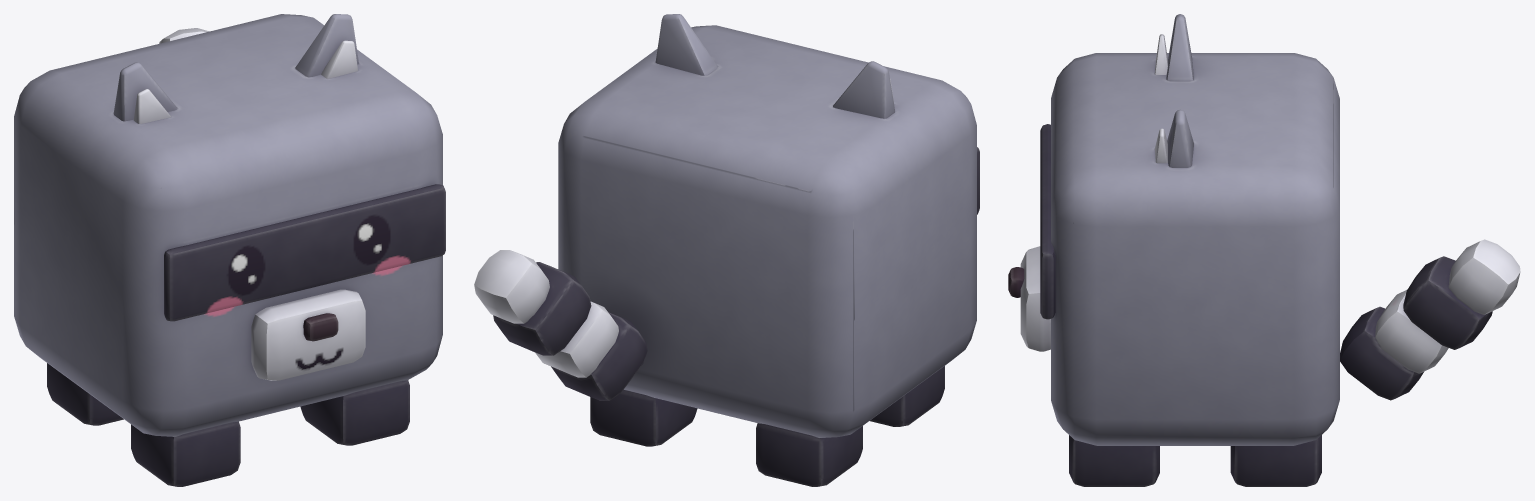
The model's file is Raccoon.fbx.
3 views of the same model, side by side, from view 1: azimuth 30°, elevation 25°; view 2: azimuth 150°, elevation 25°; view 3: azimuth 270°, elevation 25° (orthographic). The views are drawn at different scales.
Parts seen in each view (by area): view 1: Raccoon; view 2: Raccoon; view 3: Raccoon.
Part boxes in pixels (x1,y1,x2,y2): Raccoon: (14,14,445,486); Raccoon: (474,14,979,486); Raccoon: (1008,14,1520,486).
Bounding box in the file's own units: 230 × 270 × 337.
Materials: 1 (1 with a texture image).
